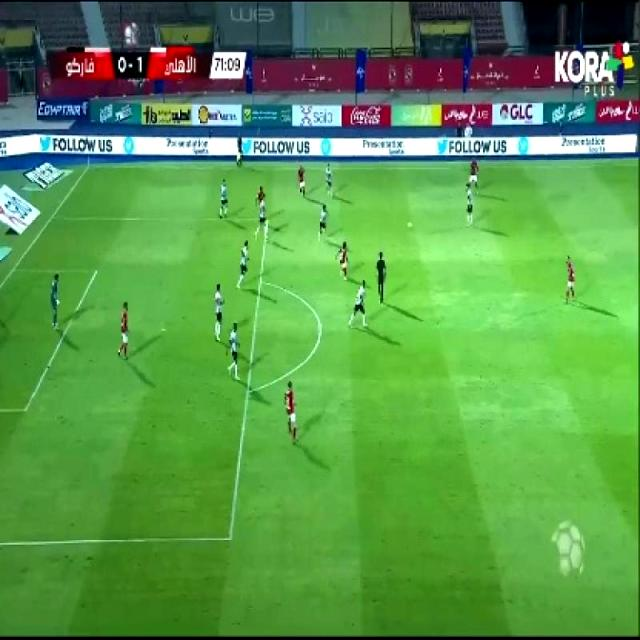bigarea_bottom_inner: (220, 523, 237, 552)
bigarea_top_outter: (47, 209, 61, 223)
bottom_arc_area_intersection: (241, 379, 258, 402)
corner: (86, 163, 94, 169)
smallarea_bottom_inner: (15, 396, 32, 421)
smallarea_top_inner: (90, 263, 100, 277)
smallarea_top_outter: (8, 262, 20, 276)
top_arc_area_intersection: (258, 272, 264, 285)
